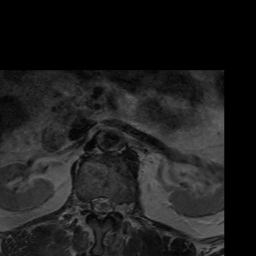CCS_normal: (97, 191, 105, 226)
LFS_normal: (114, 194, 123, 221)
LLS_normal: (105, 190, 114, 219)
RFS_normal: (81, 192, 90, 217)
RLS_normal: (89, 191, 97, 219)
